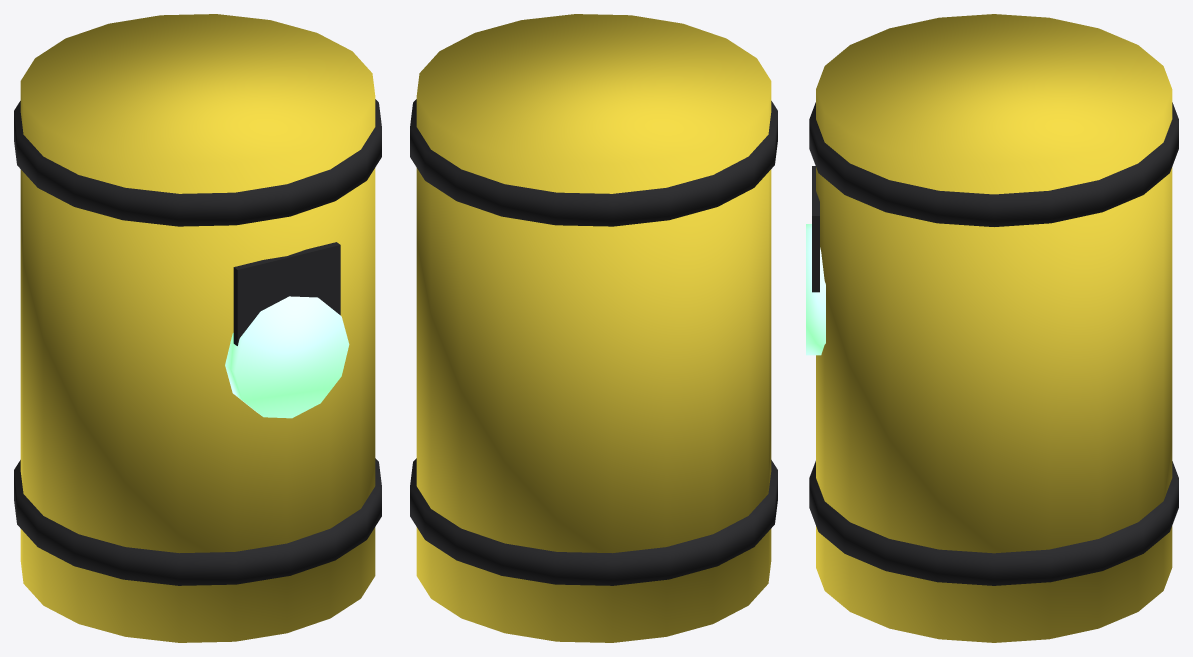
Rendered from canister_toxic.glb.
3 renders of one model, left to right at view 1: azimuth 30°, elevation 25°; view 2: azimuth 150°, elevation 25°; view 3: azimuth 270°, elevation 25°, orthographic.
Visible parts, largest first — view 1: GD_canister_toxic__m0, GD_canister_toxic__m1, GD_canister_toxic__m2; view 2: GD_canister_toxic__m0, GD_canister_toxic__m1; view 3: GD_canister_toxic__m0, GD_canister_toxic__m1, GD_canister_toxic__m2.
Part boxes in pixels (x1=…): GD_canister_toxic__m0: x1=20, y1=14, x2=375, y2=642; GD_canister_toxic__m1: x1=14, y1=99, x2=381, y2=585; GD_canister_toxic__m2: x1=225, y1=296, x2=349, y2=418; GD_canister_toxic__m0: x1=416, y1=14, x2=771, y2=642; GD_canister_toxic__m1: x1=410, y1=99, x2=777, y2=585; GD_canister_toxic__m0: x1=816, y1=14, x2=1172, y2=642; GD_canister_toxic__m1: x1=809, y1=102, x2=1178, y2=585; GD_canister_toxic__m2: x1=806, y1=224, x2=825, y2=355.
Size of the model in its own units: 0.56 by 0.8 by 0.565.
